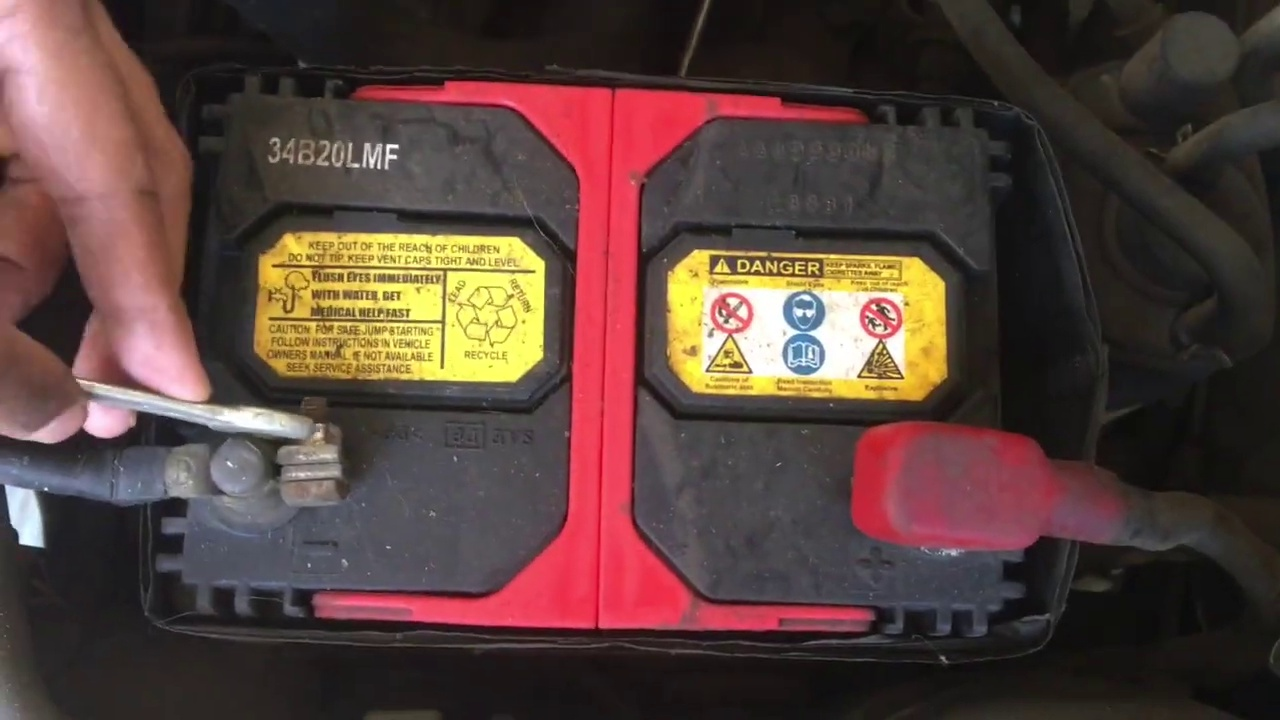battery: (153, 57, 1059, 641)
neg_connected: (59, 342, 356, 536)
neg_touched: (29, 121, 310, 548)
pos_connected: (833, 397, 1134, 573)
